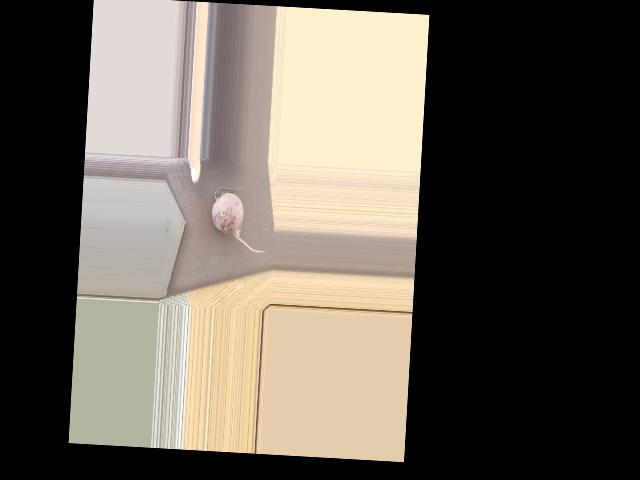beet: (209, 181, 268, 253)
